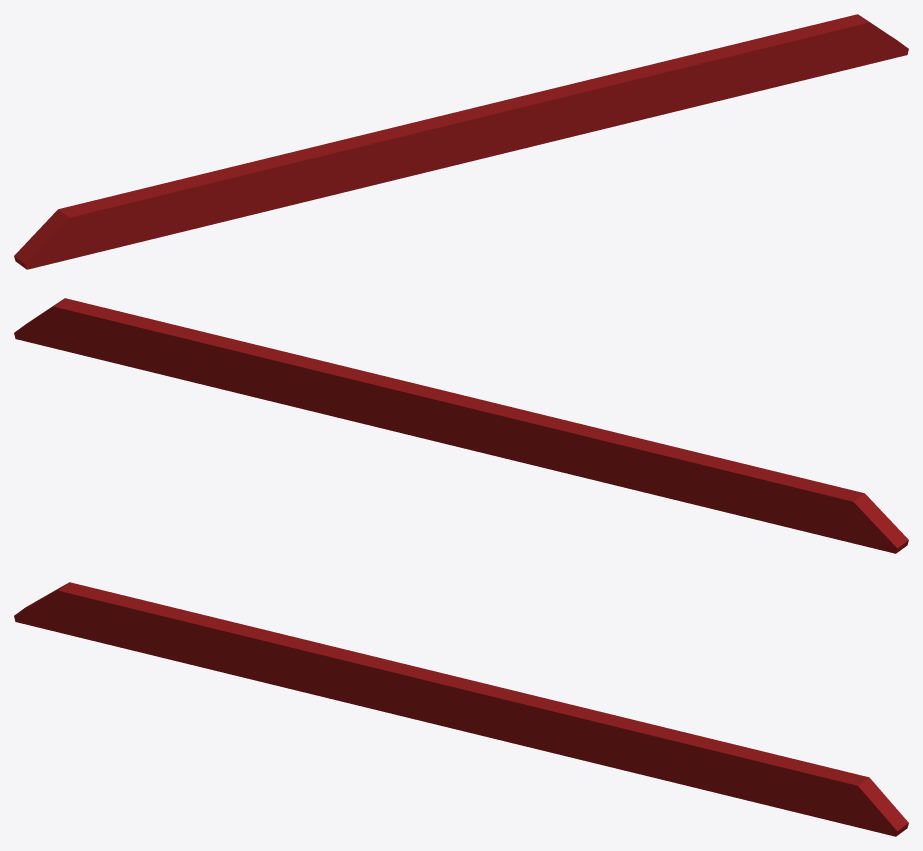
File: Beam.fbx
The picture shows the model from 3 angles, top to bottom: view 1: azimuth 30°, elevation 25°; view 2: azimuth 150°, elevation 25°; view 3: azimuth 330°, elevation 25°; orthographic projection.
Visible parts, largest first — view 1: Object_33.001; view 2: Object_33.001; view 3: Object_33.001.
Boxes of the visible parts, <box> form: Object_33.001: <box>14,14,908,269</box>; Object_33.001: <box>14,298,908,553</box>; Object_33.001: <box>14,582,908,836</box>.
Bounding box in the file's own units: 1338 × 60.4 × 30.33.
